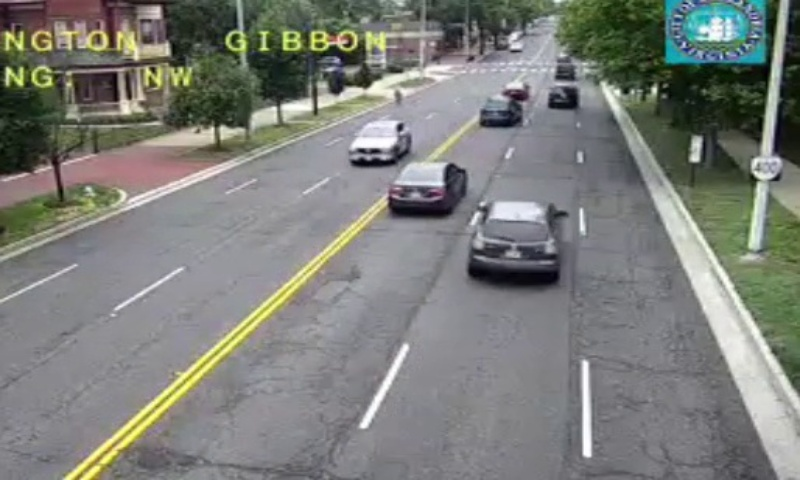car: (470, 200, 560, 274), (389, 163, 468, 209), (479, 97, 519, 123), (547, 85, 578, 108)
